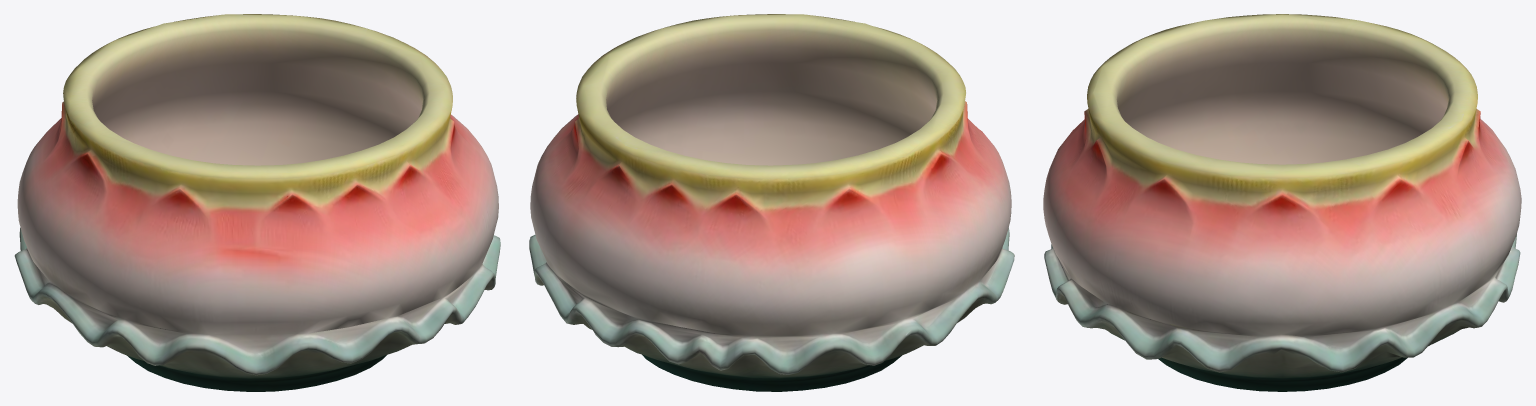
Rendered from luhuong.glb.
3 renders of one model, left to right at view 1: azimuth 30°, elevation 25°; view 2: azimuth 150°, elevation 25°; view 3: azimuth 270°, elevation 25°, orthographic.
Visible parts, largest first — view 1: part_0000; view 2: part_0000; view 3: part_0000.
Part boxes in pixels (x1,y1,x2,y2): part_0000: (14, 14, 500, 391); part_0000: (529, 14, 1014, 391); part_0000: (1043, 14, 1521, 391).
Bounding box in the file's own units: 1.16 × 0.6455 × 1.16.
Materials: 1 (1 with a texture image).
